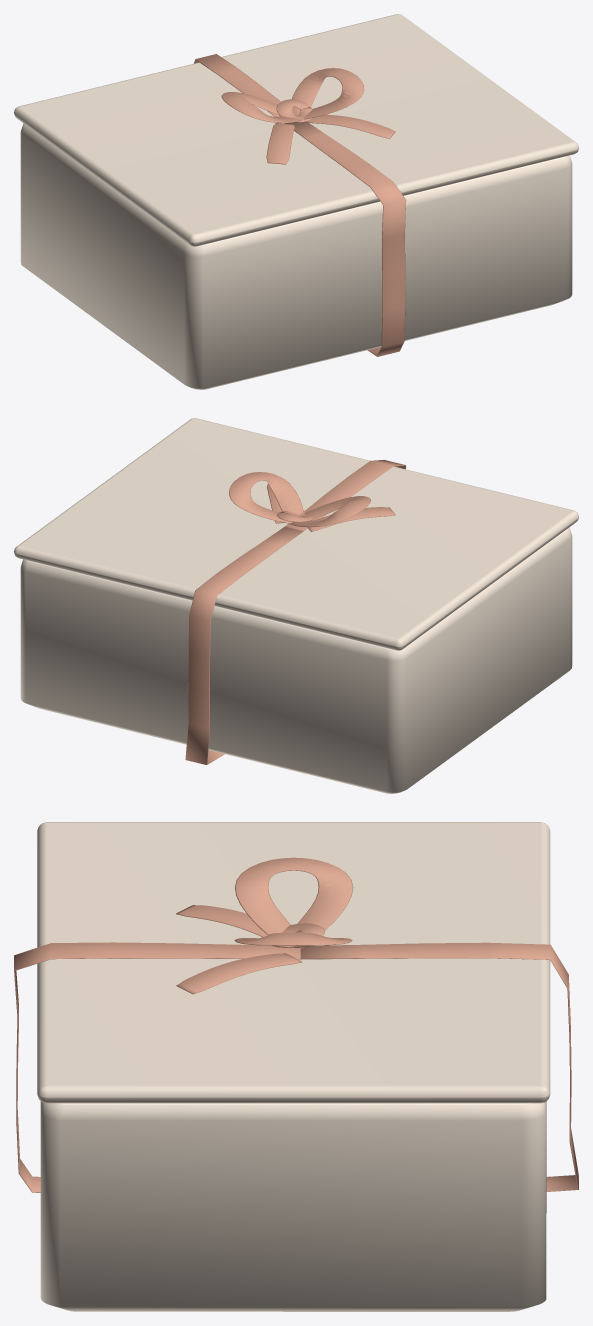
The model's file is entry-giftbox.071888eb6d5e-JvAHAQwP.glb.
3 renders of one model, top to bottom at view 1: azimuth 30°, elevation 25°; view 2: azimuth 150°, elevation 25°; view 3: azimuth 270°, elevation 25°, orthographic. The views are drawn at different scales.
Visible parts, largest first — view 1: Continuous_paper_shell, Paper_book_lid, Single_wrap_band, Bow_right_loop_lengthens, Bow_left_loop_exits, Pulled_right_tail, Lagging_left_tail, Live_knot_opens; view 2: Continuous_paper_shell, Paper_book_lid, Single_wrap_band, Bow_right_loop_lengthens, Bow_left_loop_exits, Pulled_right_tail; view 3: Paper_book_lid, Continuous_paper_shell, Single_wrap_band, Bow_left_loop_exits, Lagging_left_tail, Bow_right_loop_lengthens, Pulled_right_tail.
Boxes of the visible parts, <box> form: Continuous_paper_shell: <box>20,123,572,389</box>; Paper_book_lid: <box>14,14,578,246</box>; Single_wrap_band: <box>194,54,406,356</box>; Bow_right_loop_lengthens: <box>292,68,364,119</box>; Bow_left_loop_exits: <box>221,92,302,122</box>; Pulled_right_tail: <box>266,123,294,164</box>; Lagging_left_tail: <box>305,114,395,138</box>; Live_knot_opens: <box>276,99,312,122</box>; Continuous_paper_shell: <box>20,527,572,793</box>; Paper_book_lid: <box>14,418,578,650</box>; Single_wrap_band: <box>185,460,406,764</box>; Bow_right_loop_lengthens: <box>229,472,303,523</box>; Bow_left_loop_exits: <box>289,496,370,527</box>; Pulled_right_tail: <box>307,507,395,531</box>; Paper_book_lid: <box>37,822,550,1103</box>; Continuous_paper_shell: <box>40,1101,546,1311</box>; Single_wrap_band: <box>14,942,578,1192</box>; Bow_left_loop_exits: <box>235,857,353,947</box>; Lagging_left_tail: <box>176,953,301,994</box>; Bow_right_loop_lengthens: <box>234,932,352,948</box>; Pulled_right_tail: <box>176,905,267,936</box>.
Size of the model in its own units: 0.202 by 0.0994 by 0.1786.
